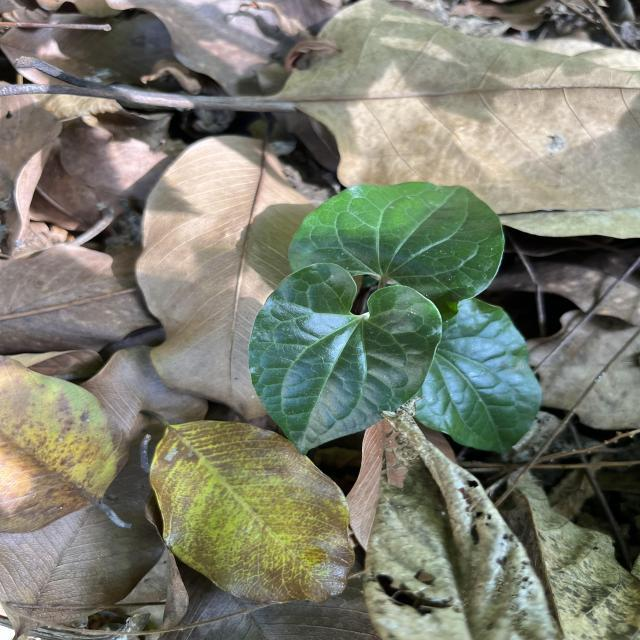Piper longum: (245, 259, 446, 456), (286, 179, 506, 307)
